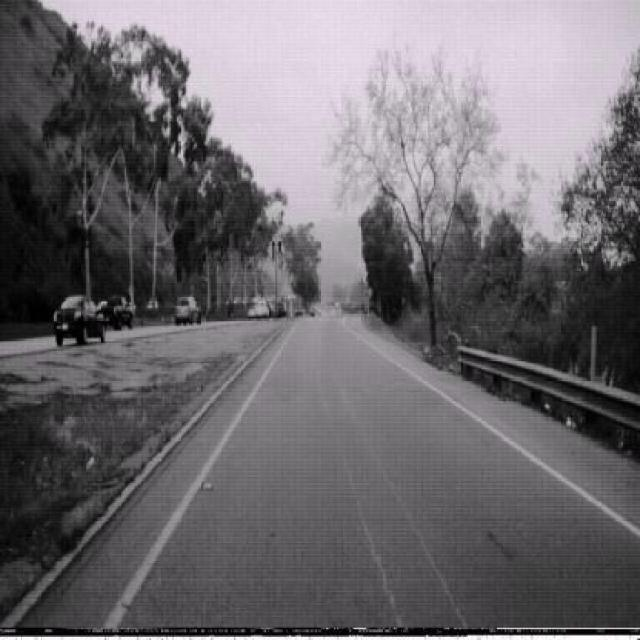addedLane: (266, 234, 286, 271)
